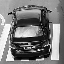motor: (9, 4, 45, 49)
